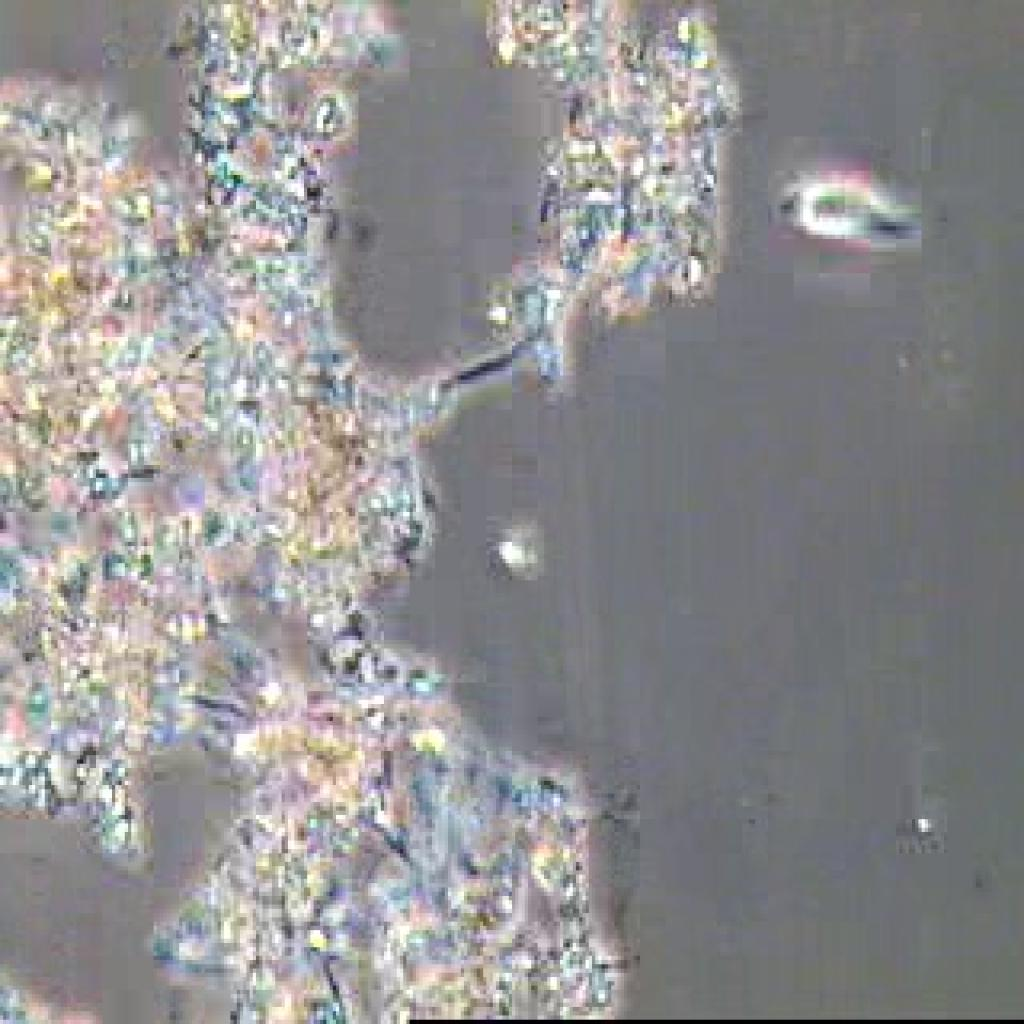Pristina: (765, 150, 928, 278)
